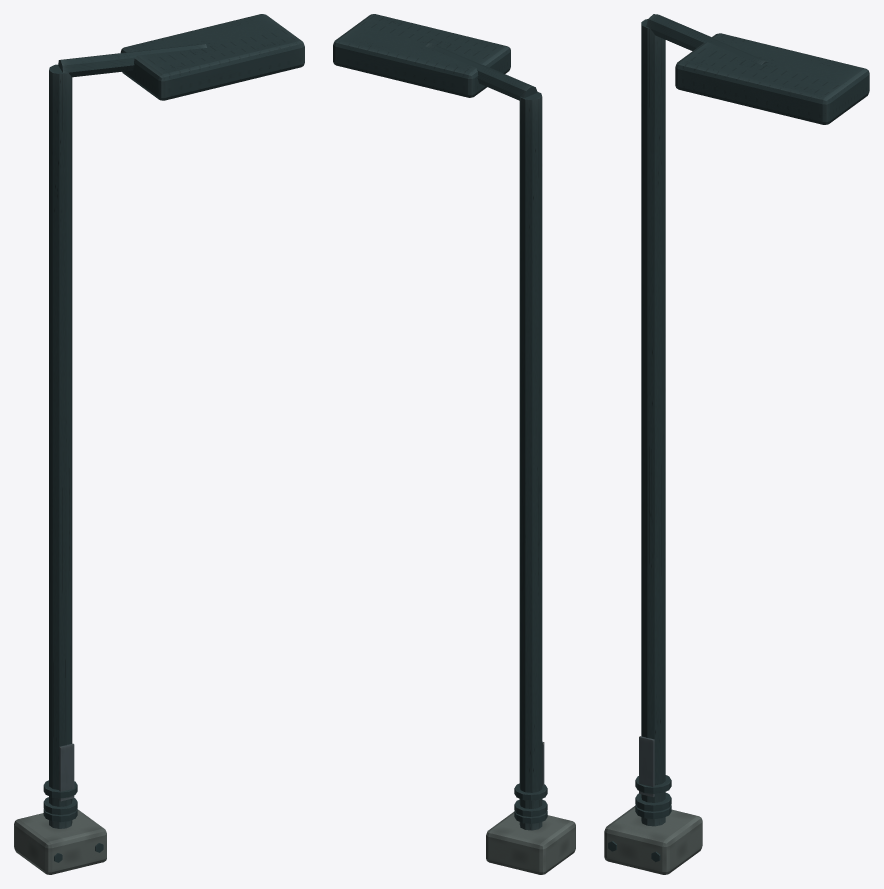
The model's file is street_lamp.fbx.
3 views of the same model, side by side, from view 1: azimuth 30°, elevation 25°; view 2: azimuth 150°, elevation 25°; view 3: azimuth 330°, elevation 25° (orthographic). The views are drawn at different scales.
Visible parts, largest first — view 1: street_lamp__shaft, street_lamp__head, street_lamp__base, street_lamp__cantilever, street_lamp__access_plate; view 2: street_lamp__shaft, street_lamp__head, street_lamp__base, street_lamp__cantilever; view 3: street_lamp__shaft, street_lamp__head, street_lamp__base, street_lamp__cantilever, street_lamp__access_plate.
Part boxes in pixels (x1=…): street_lamp__shaft: x1=49, y1=64, x2=72, y2=828; street_lamp__head: x1=120, y1=14, x2=304, y2=100; street_lamp__base: x1=14, y1=809, x2=106, y2=874; street_lamp__cantilever: x1=58, y1=44, x2=206, y2=77; street_lamp__access_plate: x1=59, y1=743, x2=74, y2=801; street_lamp__shaft: x1=519, y1=92, x2=542, y2=830; street_lamp__head: x1=333, y1=14, x2=510, y2=97; street_lamp__base: x1=486, y1=812, x2=575, y2=874; street_lamp__cantilever: x1=425, y1=43, x2=537, y2=100; street_lamp__shaft: x1=641, y1=19, x2=665, y2=826; street_lamp__head: x1=675, y1=33, x2=869, y2=124; street_lamp__base: x1=604, y1=806, x2=702, y2=874; street_lamp__cantilever: x1=646, y1=14, x2=768, y2=64; street_lamp__access_plate: x1=639, y1=736, x2=654, y2=797.
Size of the model in its own units: 207 by 667 by 89.
Materials: 4 (4 with a texture image).
